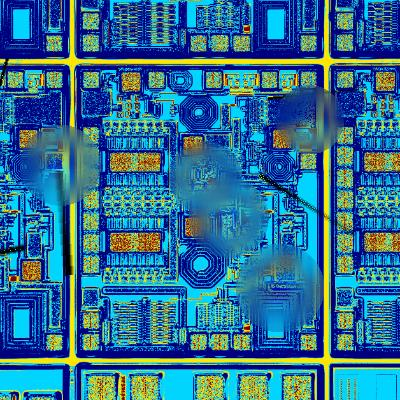Die: (74, 64, 323, 359)
Pad 1: (137, 233, 160, 251), (138, 153, 160, 171), (111, 233, 132, 251), (111, 153, 131, 171), (185, 218, 204, 236), (273, 130, 291, 148), (122, 73, 140, 91), (184, 137, 202, 154)
Pad 2: (83, 147, 99, 167), (83, 169, 99, 188), (83, 234, 99, 252), (83, 190, 99, 208), (83, 127, 99, 145), (83, 212, 99, 230), (84, 255, 99, 273), (83, 72, 99, 88), (206, 72, 222, 88), (149, 72, 164, 88), (83, 335, 99, 350), (301, 72, 316, 88), (83, 313, 99, 328), (234, 335, 250, 350), (212, 335, 228, 350), (262, 72, 277, 88), (301, 154, 316, 169), (301, 335, 316, 350), (191, 335, 206, 350)
